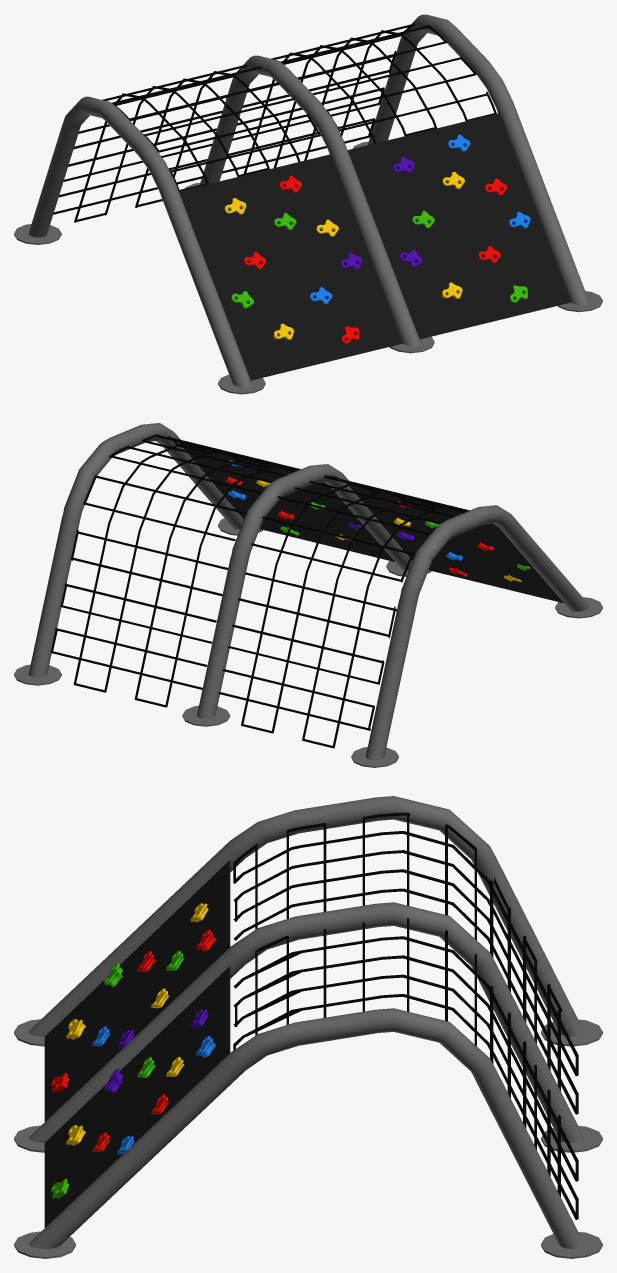
The model's file is 17104- Posta 4.FBX.
3 renders of one model, top to bottom at view 1: azimuth 30°, elevation 25°; view 2: azimuth 150°, elevation 25°; view 3: azimuth 270°, elevation 25°, orthographic. The views are drawn at different scales.
Bounding box in the file's own units: 108 × 49.71 × 112.
